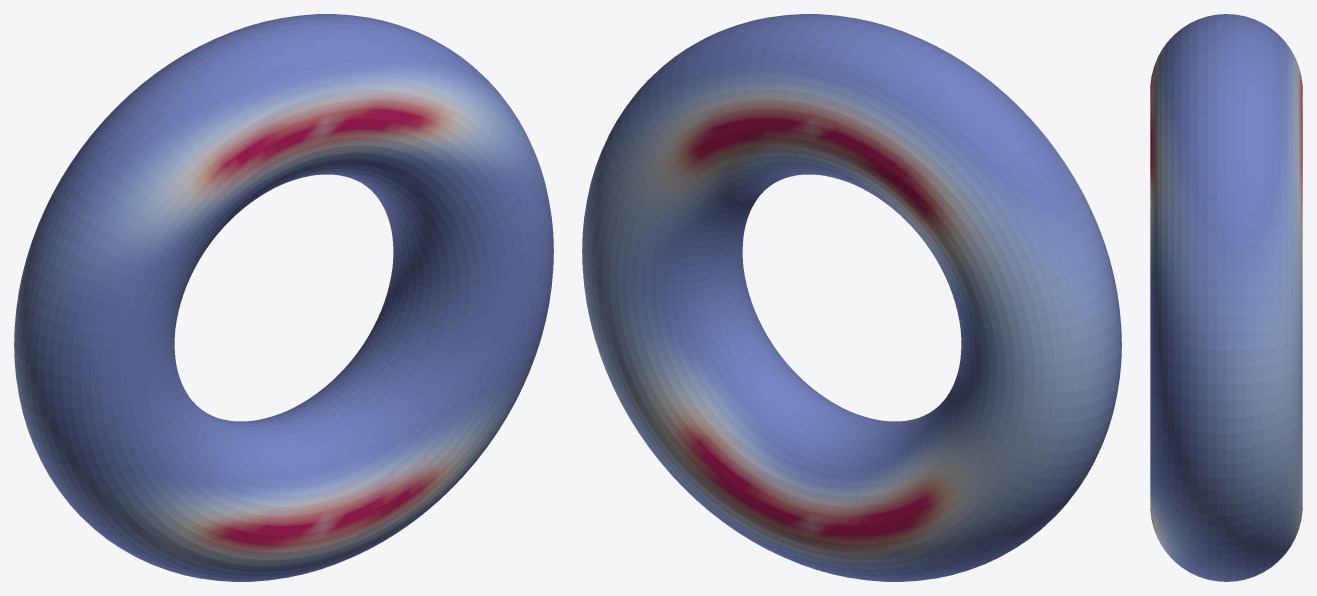
3 views of the same model, side by side, from view 1: azimuth 30°, elevation 25°; view 2: azimuth 150°, elevation 25°; view 3: azimuth 270°, elevation 25° (orthographic). The views are drawn at different scales.
Parts seen in each view (by area): view 1: world; view 2: world; view 3: world.
Boxes of the visible parts, <box> form: world: <box>14,14,553,581</box>; world: <box>582,14,1121,581</box>; world: <box>1150,14,1302,581</box>.
Bounding box in the file's own units: 16.4 × 16.4 × 4.39.
